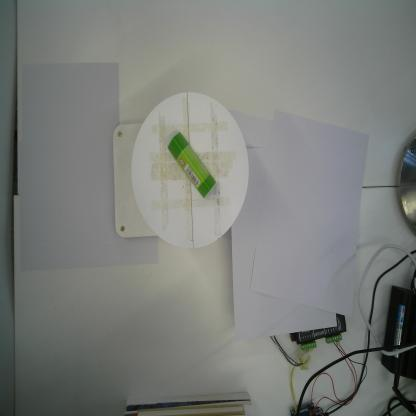Stationery: (166, 130, 217, 199)
